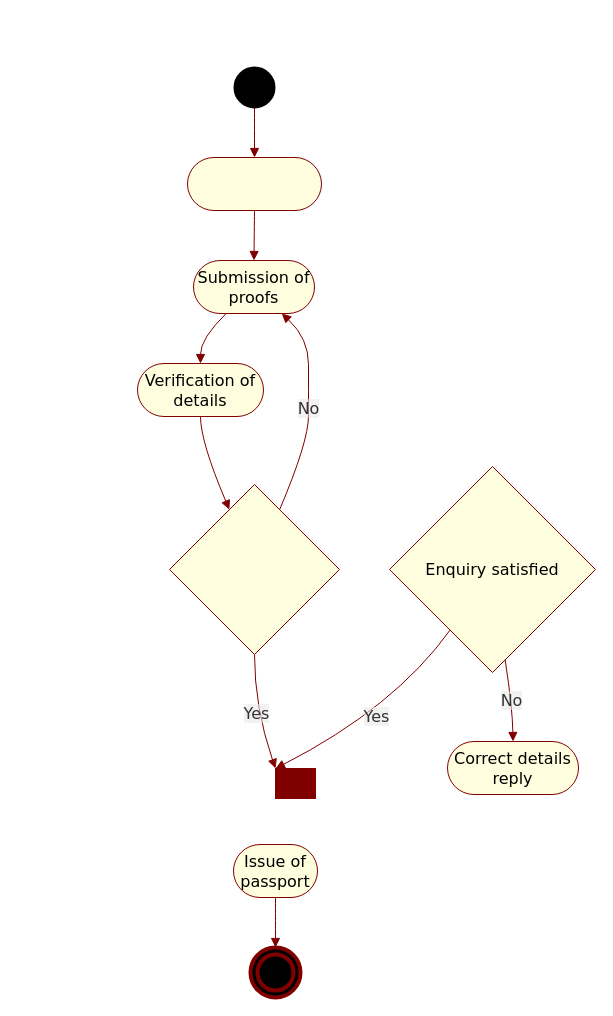
This 613x1016 diagram has some shape labels left out. Each missing label, with the centre of its shape:
"Check details" goes at [254,569].
"Enter applicant details" goes at [254,183].
